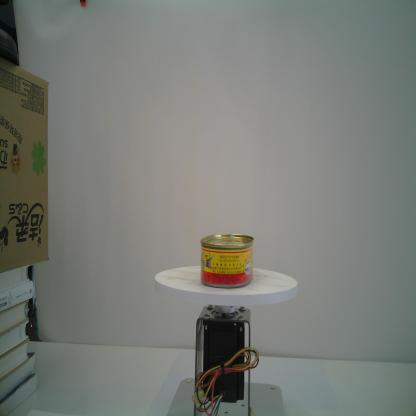Canned Food: (199, 232, 255, 290)
